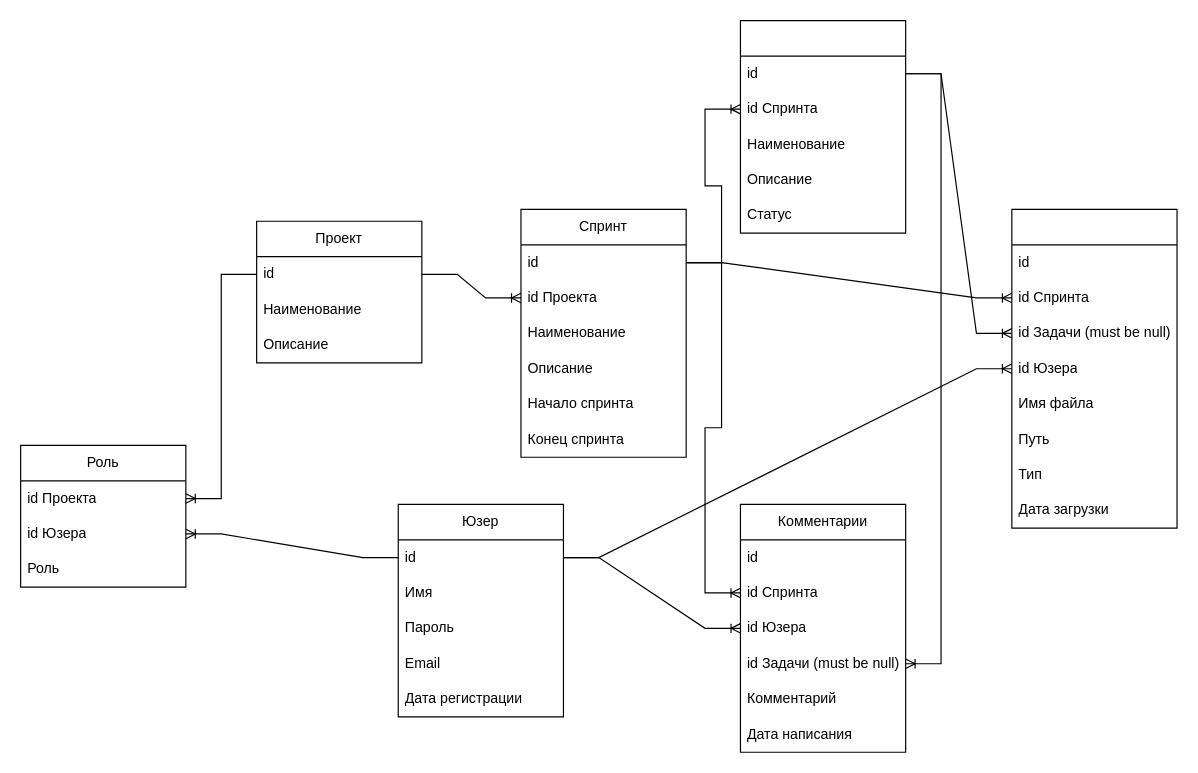
Image size: 1198x773. Some labels were removed from this diagram. The box of each missing label's shape, as (x1, y1, x2, y2) in pixels:
Задача: (739, 19, 906, 233)
Файлы: (1011, 208, 1177, 528)
